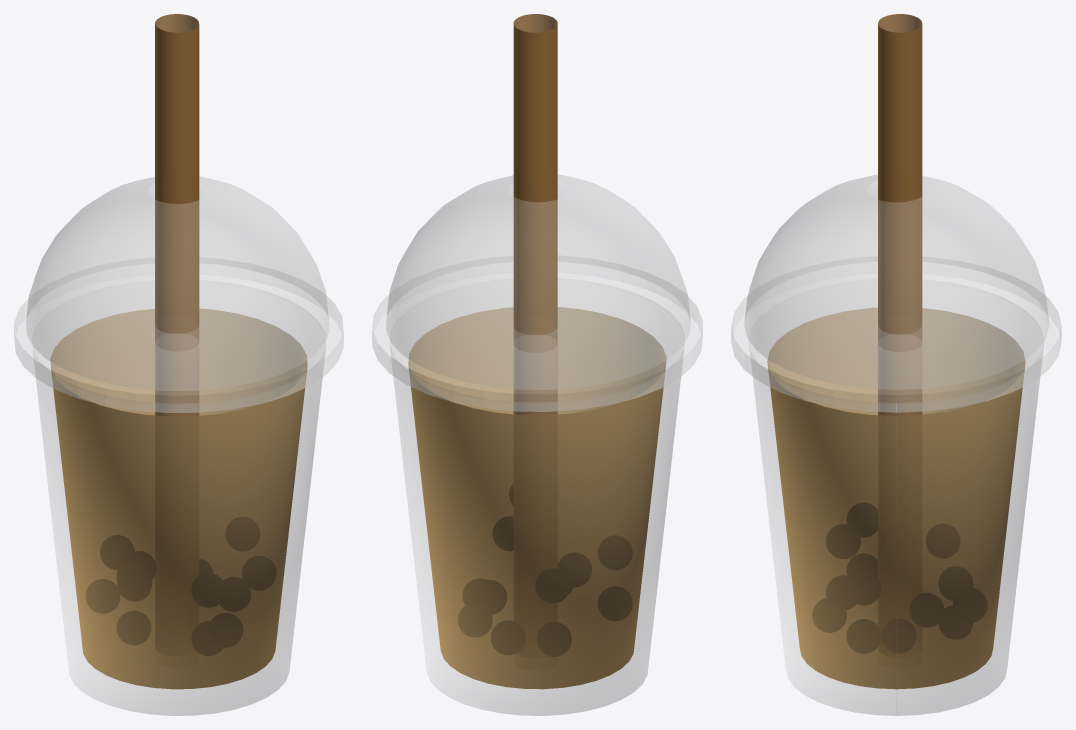
File: boba_cup.glb
3 views of the same model, side by side, from view 1: azimuth 30°, elevation 25°; view 2: azimuth 150°, elevation 25°; view 3: azimuth 270°, elevation 25° (orthographic).
Visible parts, largest first — view 1: Sphere.001; view 2: Sphere.001; view 3: Sphere.001.
Boxes of the visible parts, x1,y1,x2,y2 form: Sphere.001: (14, 14, 343, 715); Sphere.001: (372, 14, 702, 715); Sphere.001: (731, 14, 1061, 715).
Size of the model in its own units: 2.98 by 6.43 by 2.98.
